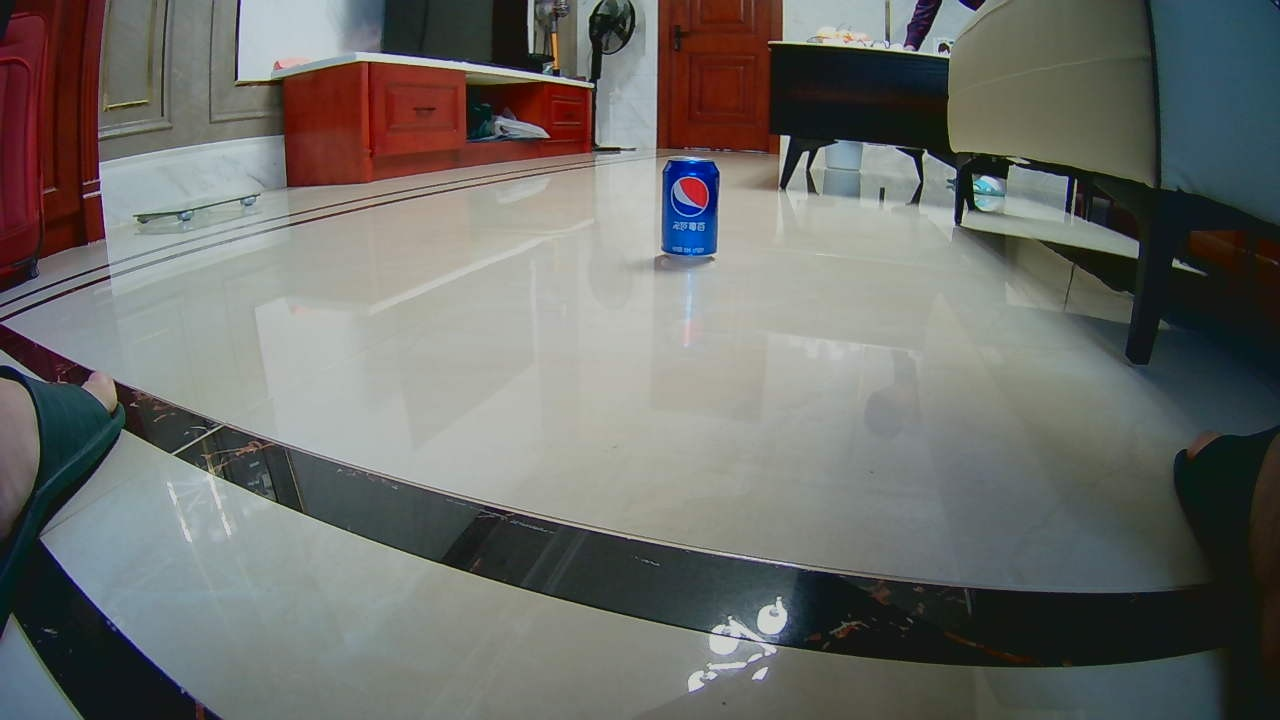pessi: (662, 156, 718, 261)
